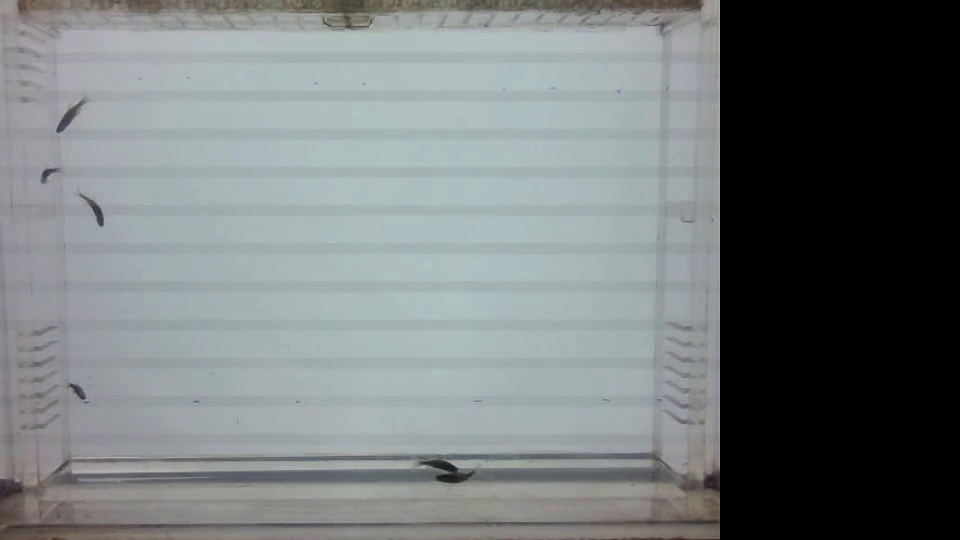fish: (72, 192, 108, 230), (52, 98, 89, 133), (406, 452, 468, 472), (64, 378, 93, 408), (428, 469, 482, 485), (33, 164, 64, 186)
